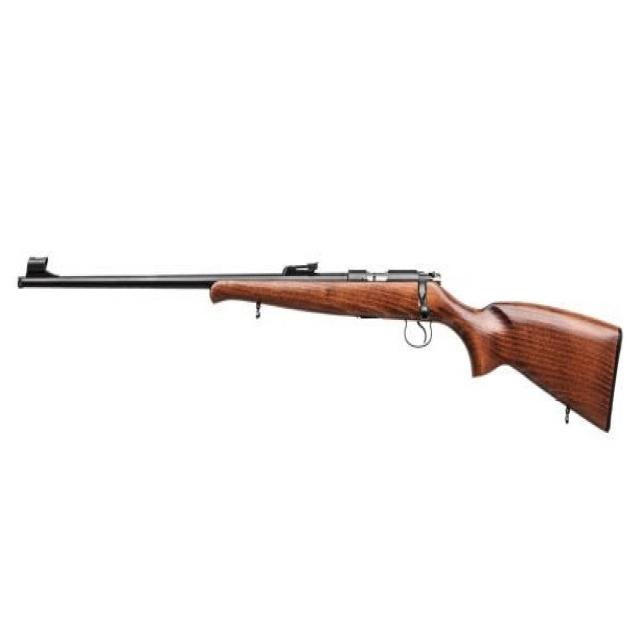rifle: (12, 242, 630, 449)
